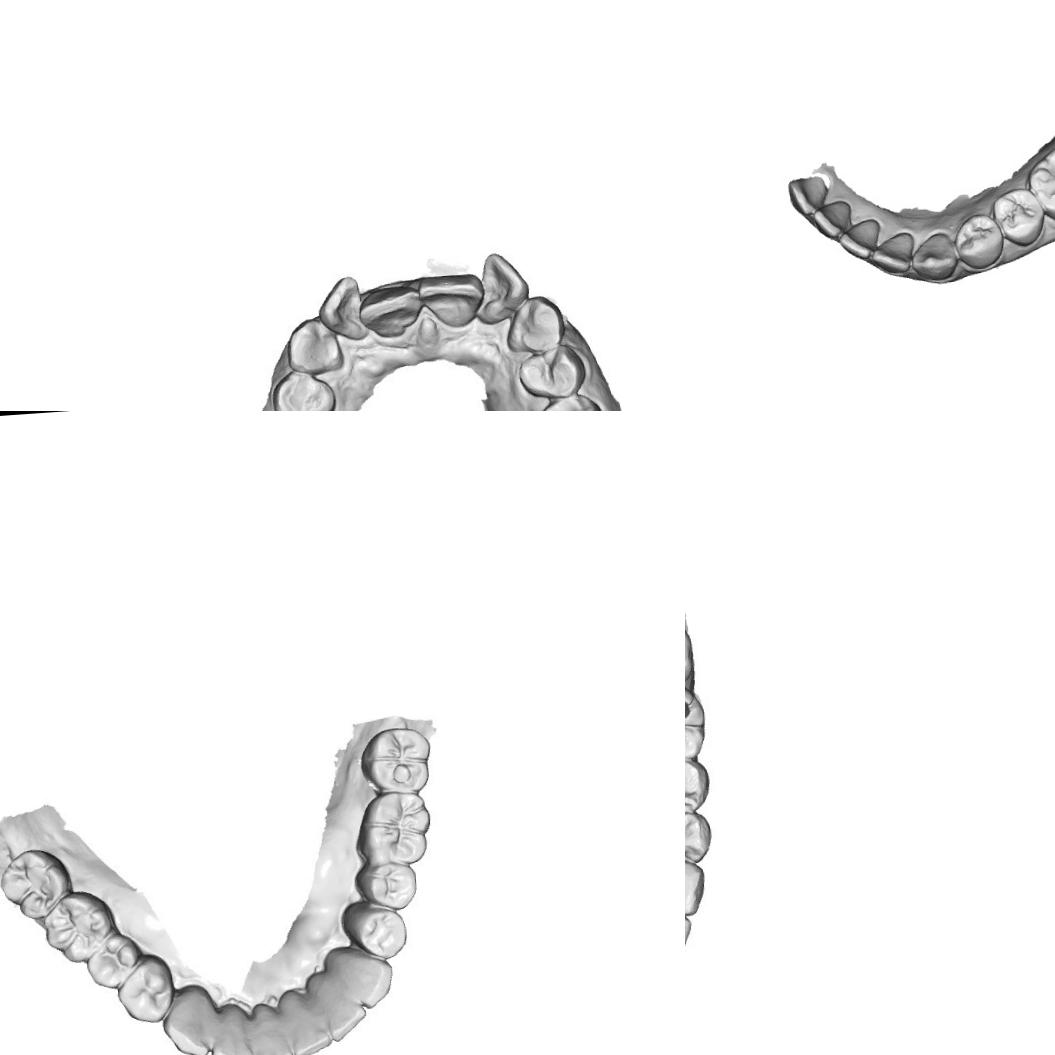canine: (497, 293, 569, 358), (324, 944, 395, 1006), (281, 314, 347, 378), (165, 987, 216, 1055), (908, 226, 960, 282), (685, 851, 704, 910)
incisor: (480, 252, 534, 323), (421, 272, 484, 332), (320, 278, 377, 344), (359, 278, 422, 334), (310, 972, 365, 1036), (278, 988, 330, 1054), (208, 1000, 257, 1055), (247, 1001, 294, 1055), (835, 215, 884, 264), (782, 170, 832, 218), (868, 230, 917, 278), (808, 193, 854, 240)
molar: (363, 792, 435, 869), (362, 724, 435, 792), (40, 896, 109, 964), (0, 852, 65, 919), (1023, 140, 1055, 226), (685, 685, 709, 761)
premolar: (989, 184, 1045, 250), (952, 212, 1006, 270), (350, 902, 408, 956), (117, 961, 169, 1020), (518, 348, 578, 399), (86, 935, 136, 989), (275, 370, 334, 411), (369, 864, 418, 905), (685, 811, 713, 865), (536, 392, 602, 411), (685, 759, 705, 812)
